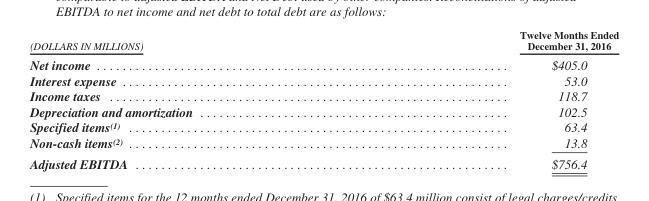table: (29, 28, 618, 170)
table column: (29, 28, 355, 170), (355, 28, 618, 170)
table column header: (29, 28, 618, 54)
table row: (29, 28, 618, 54), (29, 54, 618, 72), (29, 134, 618, 152), (29, 152, 618, 170), (29, 72, 618, 88), (29, 103, 618, 119), (29, 88, 618, 103), (29, 119, 618, 134)
